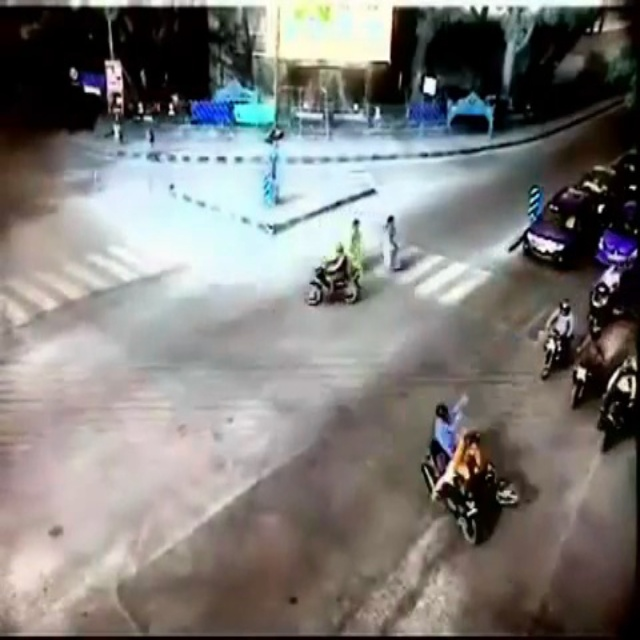acc: (424, 399, 520, 547)
